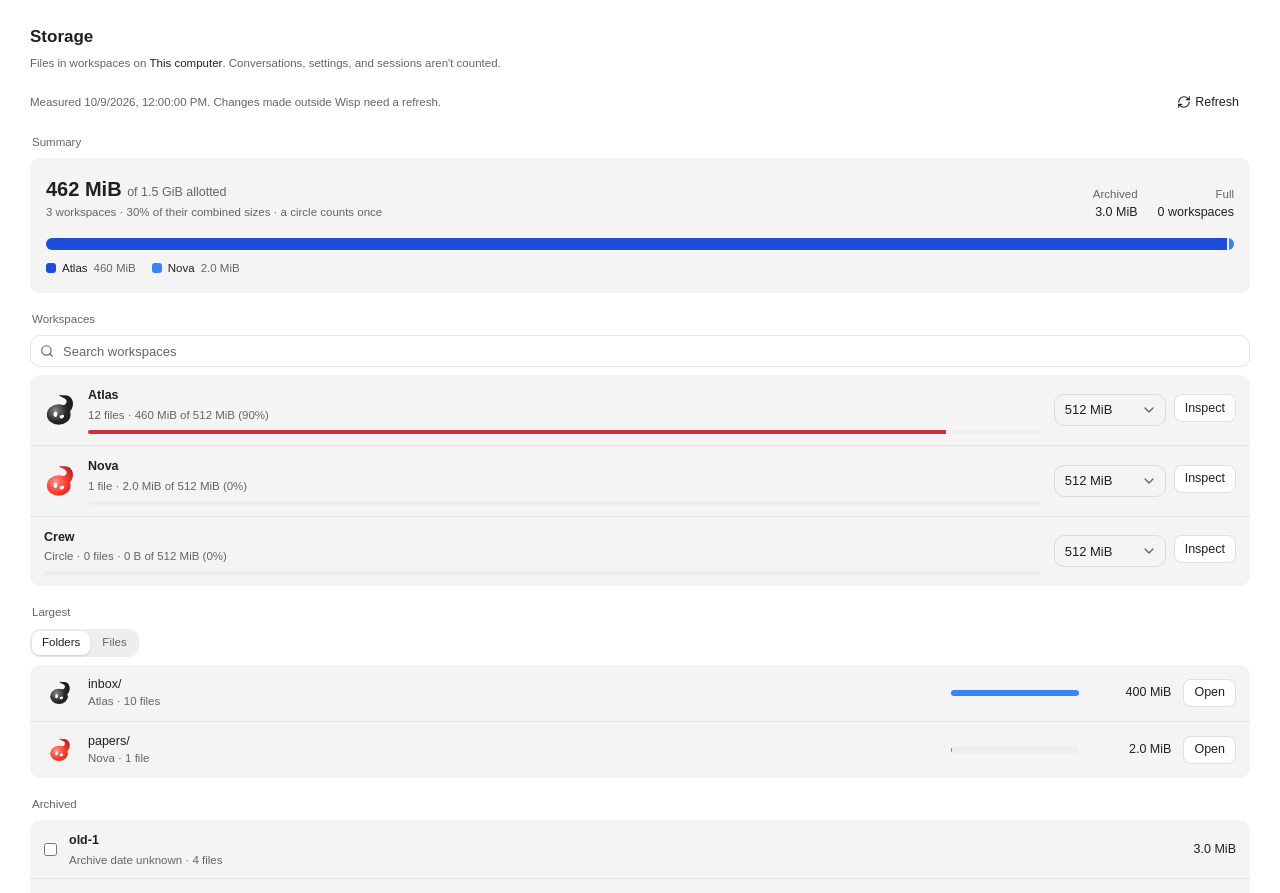
Test: opens the largest file in the inspector, already selected
Click the radio button labelled "Files" at (115, 642), box [92,630,137,654]
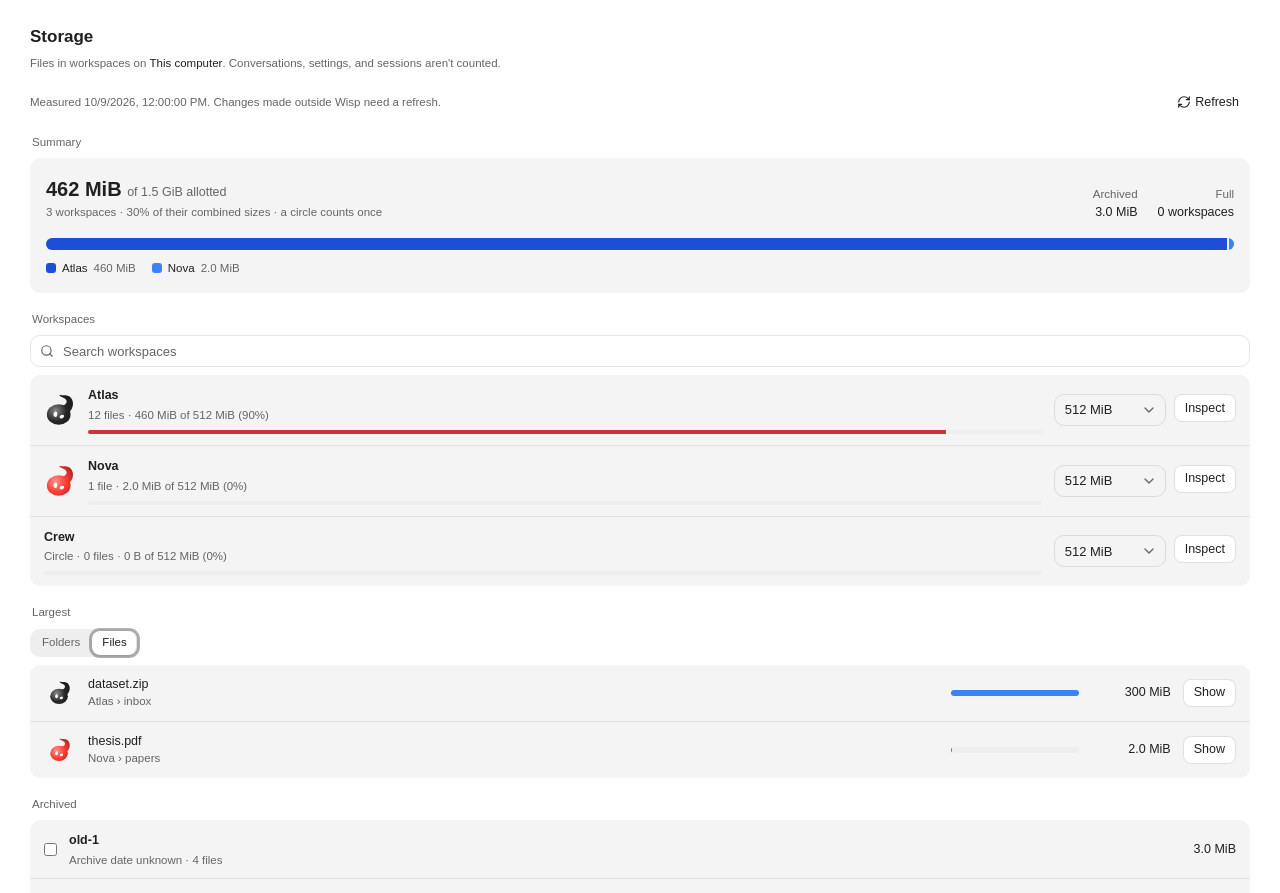
Click the button with aria-label "Show dataset.zip in Atlas › inbox" at (1209, 692), box [1183,678,1236,706]
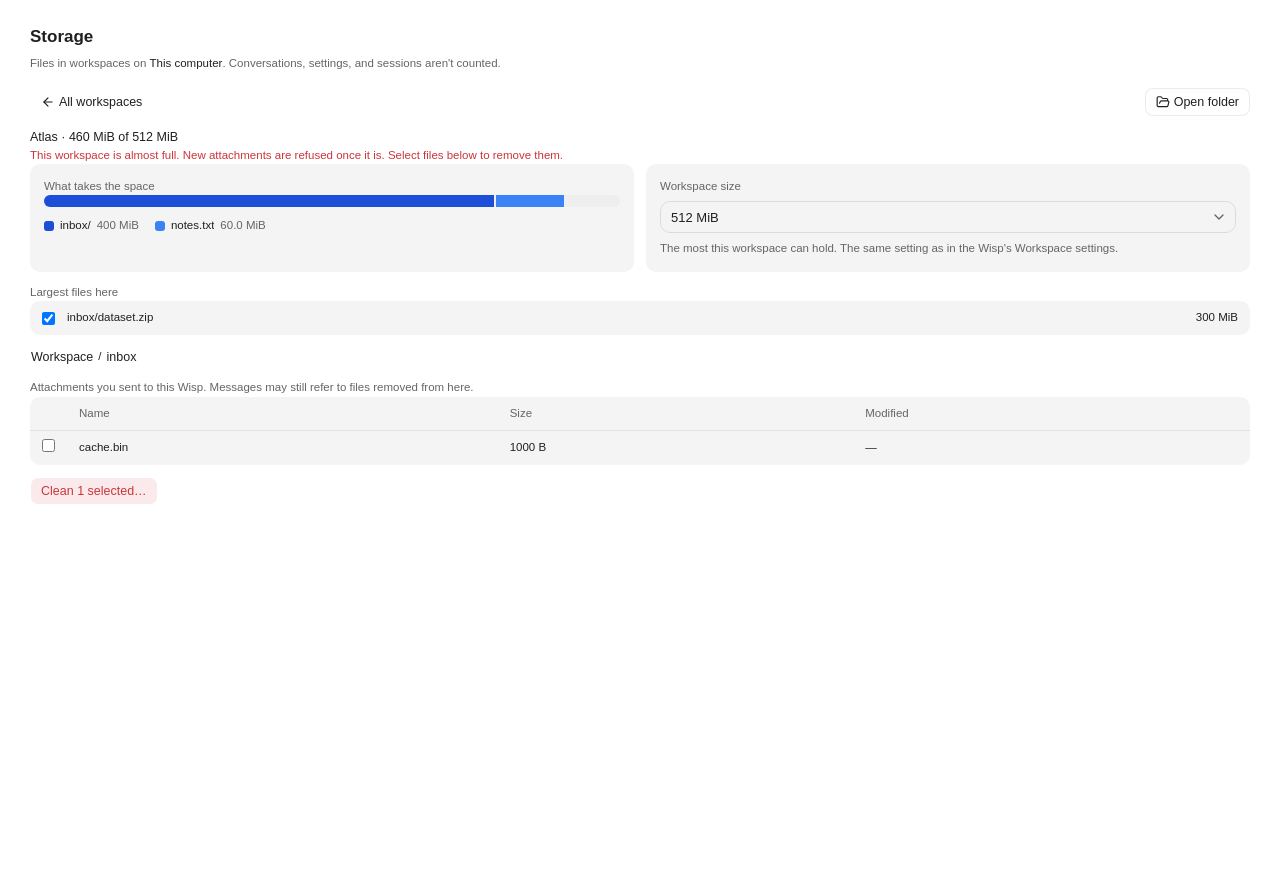
Result: the checkbox named "Select inbox/dataset.zip" is checked at [42,312,55,324]
Result: the button "Clean 1 selected…" is enabled at [30,477,158,505]
